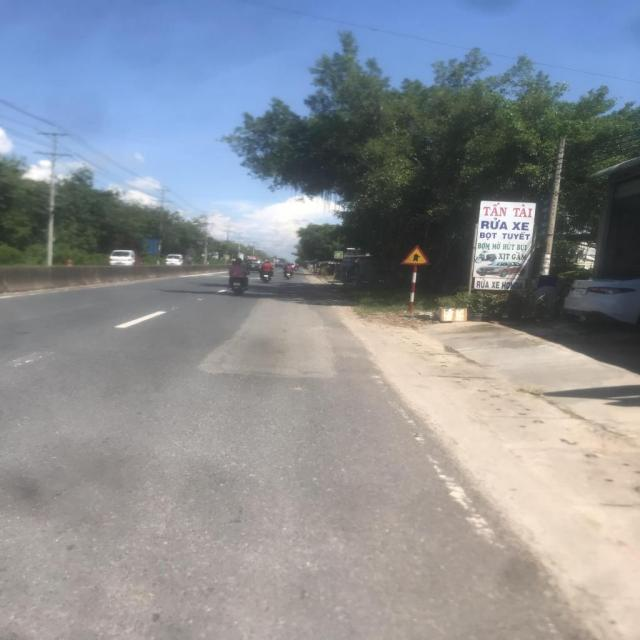giao_nhau_voi_duong_khong_uu_tien: (401, 245, 431, 266)
